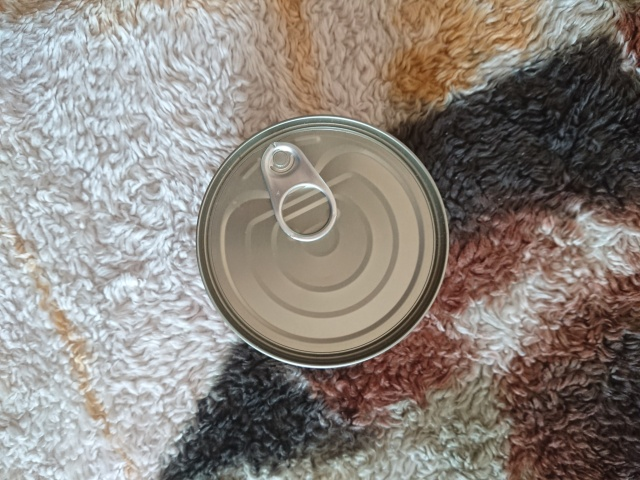Giana Tuna Salad Mexico 185g: (192, 111, 454, 375)
